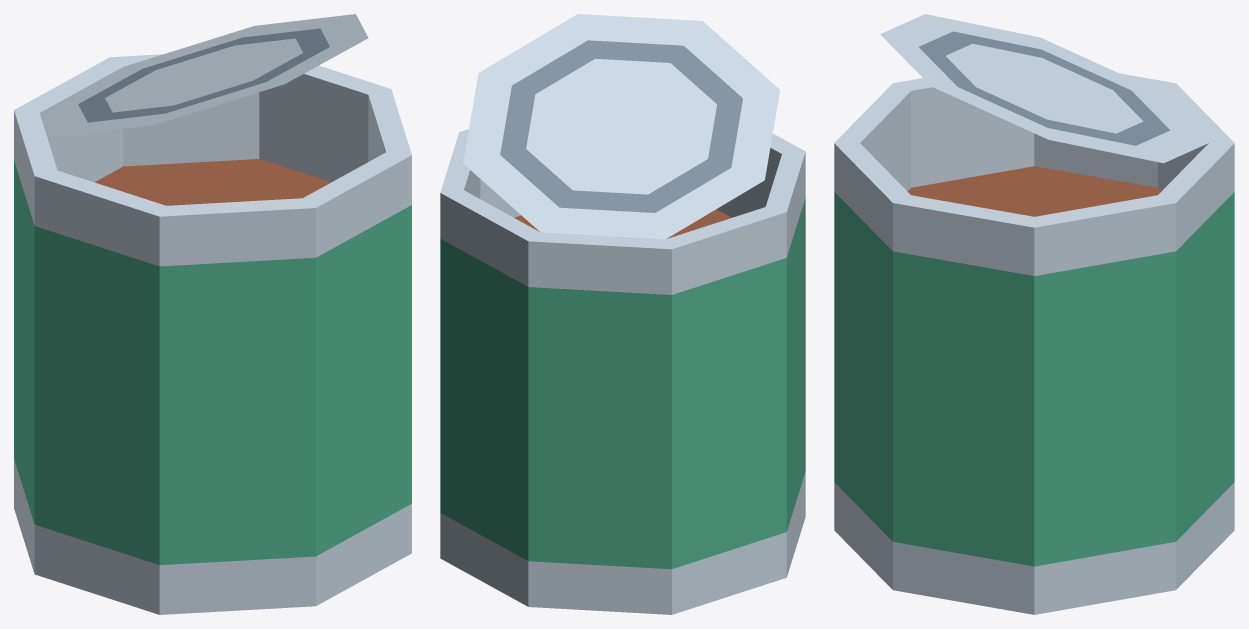
Rendered from canOpen.dae.
3 renders of one model, left to right at view 1: azimuth 30°, elevation 25°; view 2: azimuth 150°, elevation 25°; view 3: azimuth 270°, elevation 25°, orthographic. The views are drawn at different scales.
Visible parts, largest first — view 1: canOpen; view 2: canOpen; view 3: canOpen.
Boxes of the visible parts, x1,y1,x2,y2 form: canOpen: [14, 14, 411, 614]; canOpen: [440, 14, 805, 614]; canOpen: [834, 14, 1234, 614].
Size of the model in its own units: 0.3 by 0.4071 by 0.3.
